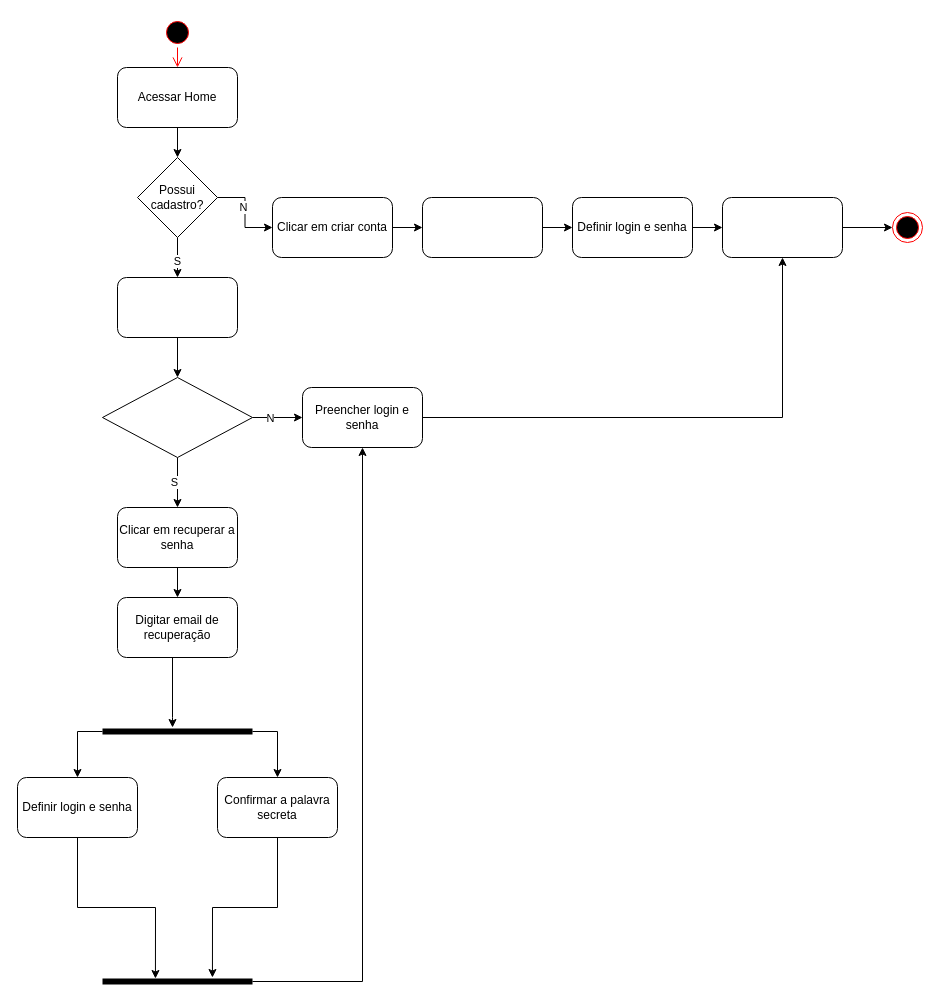
Some shapes in this 940 by 1007 pixel diagram are drawn without their labels. Here are the shapes that lost their labels. From the top down, the centre of each, then its label:
At pixel 482 227: "Preencher cadastro".
At pixel 782 227: "Acessar a área do usuário".
At pixel 177 307: "Clicar em fazer login".
At pixel 177 417: "Esqueceu login e senha".
